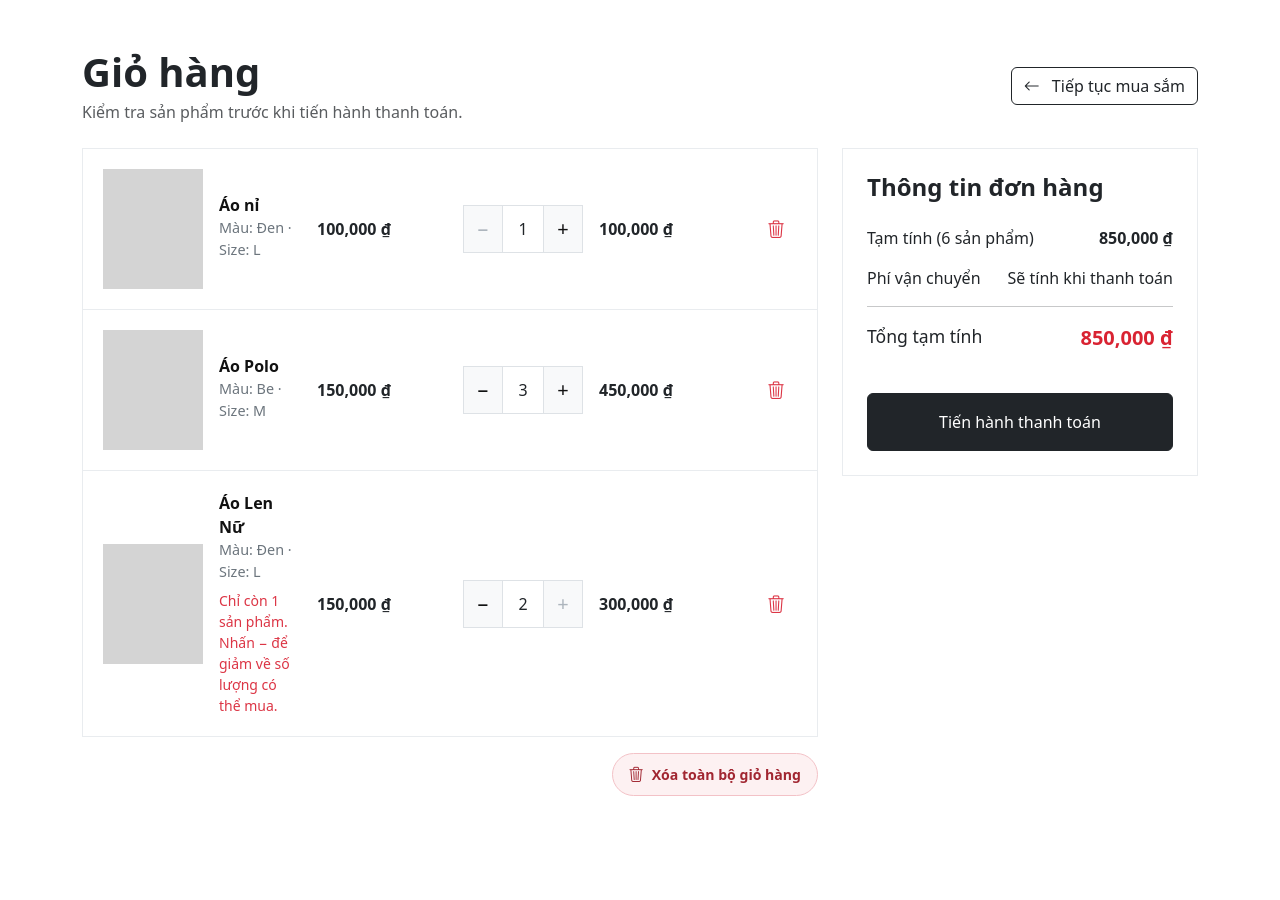
Test: CartComponent › keeps the cart visible and reports an error if reloading after deletion fails
Step 1. Click the 1st button with class "remove-button" → (776,229), box [755, 215, 797, 243]
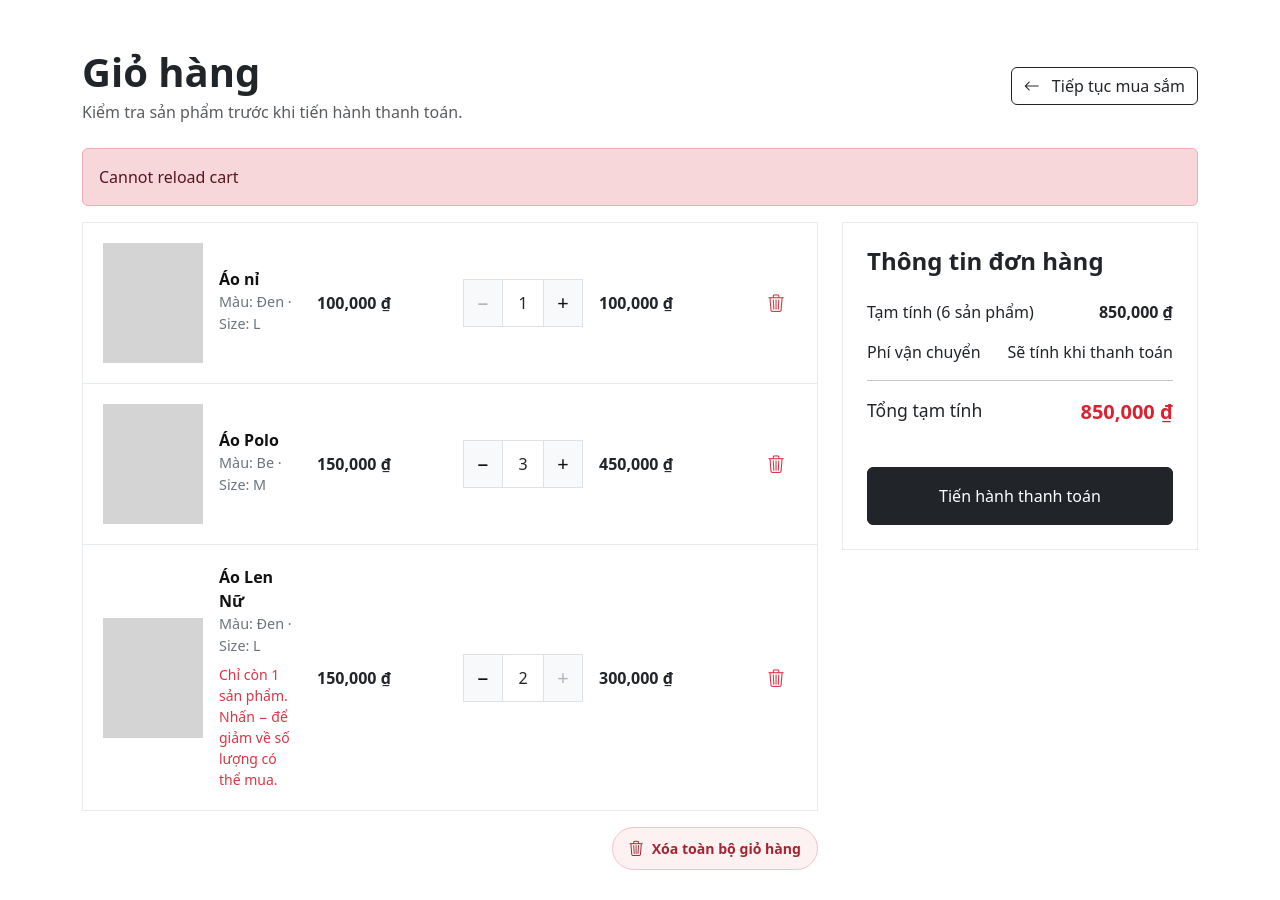
Check: the number of elements with class "cart-item" is 3, box [83, 223, 817, 384]; [83, 384, 817, 545]; [83, 545, 817, 810]
Check: the text "Cannot reload cart" is shown, box [82, 148, 1198, 206]
